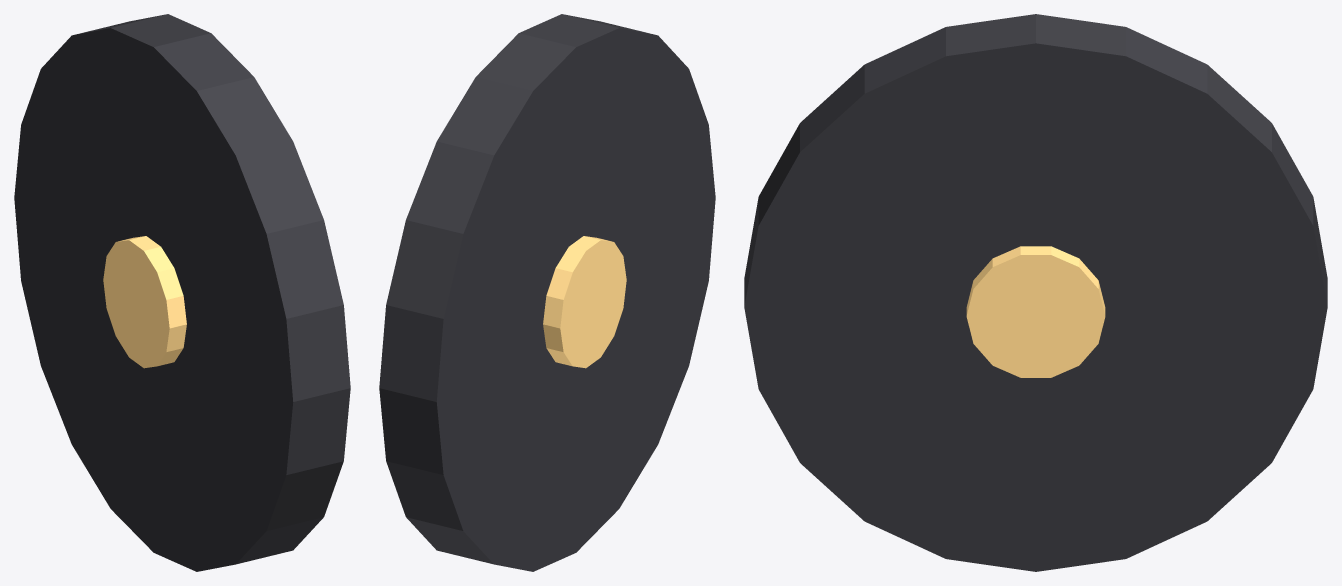
Rendered from gen_wheel.glb.
3 views of the same model, side by side, from view 1: azimuth 30°, elevation 25°; view 2: azimuth 150°, elevation 25°; view 3: azimuth 270°, elevation 25° (orthographic). The views are drawn at different scales.
Visible parts, largest first — view 1: geometry_0, geometry_1; view 2: geometry_0, geometry_1; view 3: geometry_0, geometry_1.
Boxes of the visible parts, x1,y1,x2,y2 form: geometry_0: [14, 14, 350, 571]; geometry_1: [103, 236, 186, 368]; geometry_0: [379, 14, 715, 571]; geometry_1: [543, 236, 626, 368]; geometry_0: [744, 14, 1327, 571]; geometry_1: [966, 246, 1105, 377].
Bounding box in the file's own units: 0.16 × 0.84 × 0.84.
